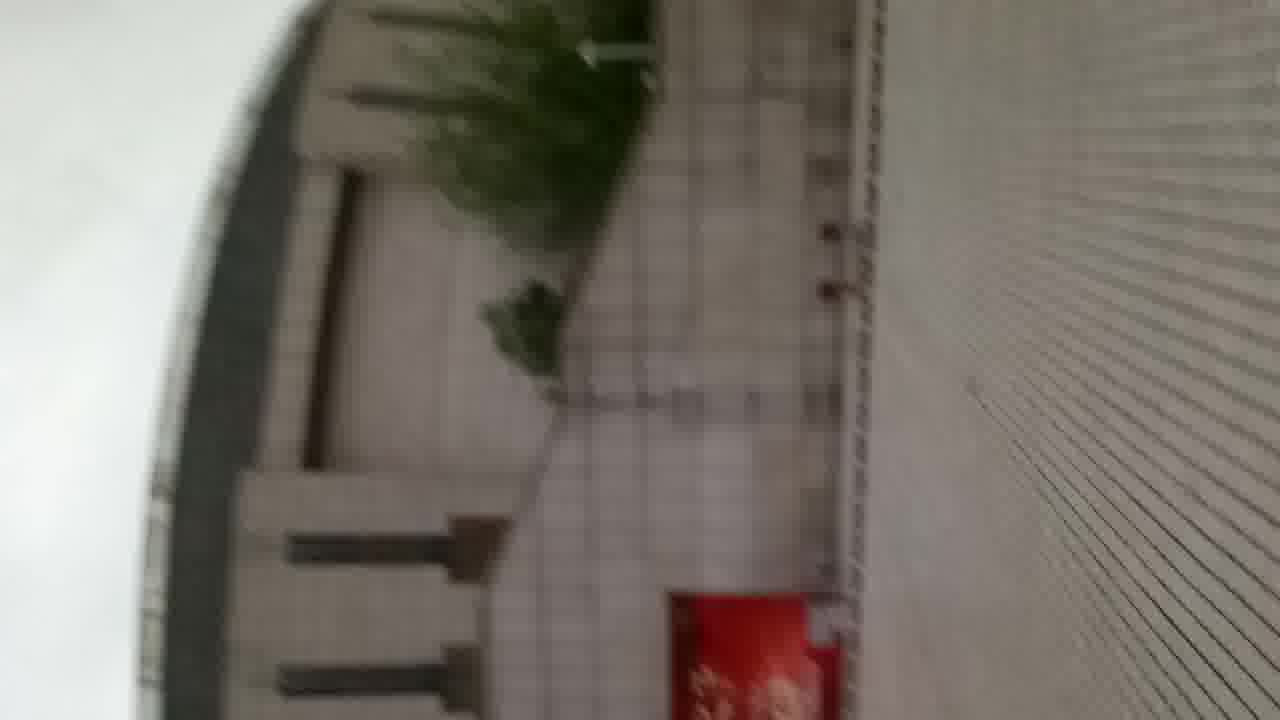zhongtiww: (116, 10, 848, 720)
